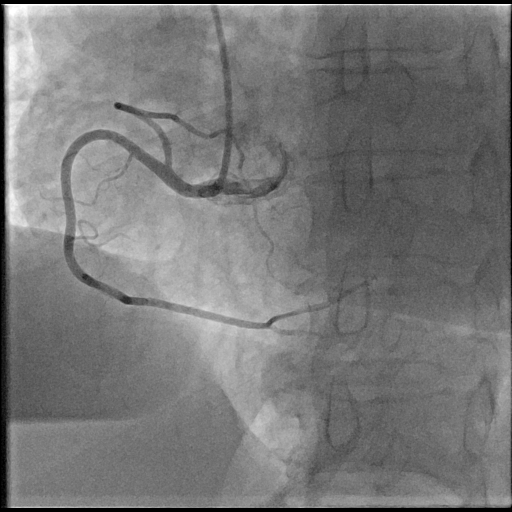RCA: (61, 102, 368, 330)
catherter: (198, 4, 232, 197)
